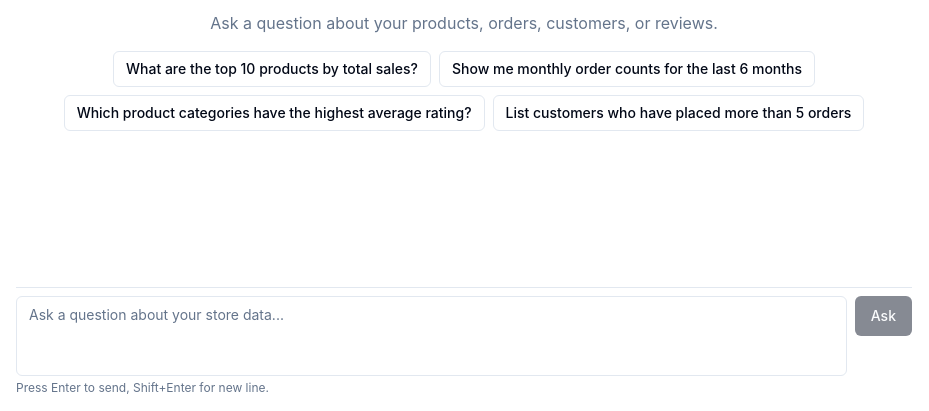
Test case: AiAnalyticsChat › enables the Ask button when input has text
Type "How many products?" into the text box with placeholder "Ask a question about your store data..." at (431, 336), box [16,296,847,376]
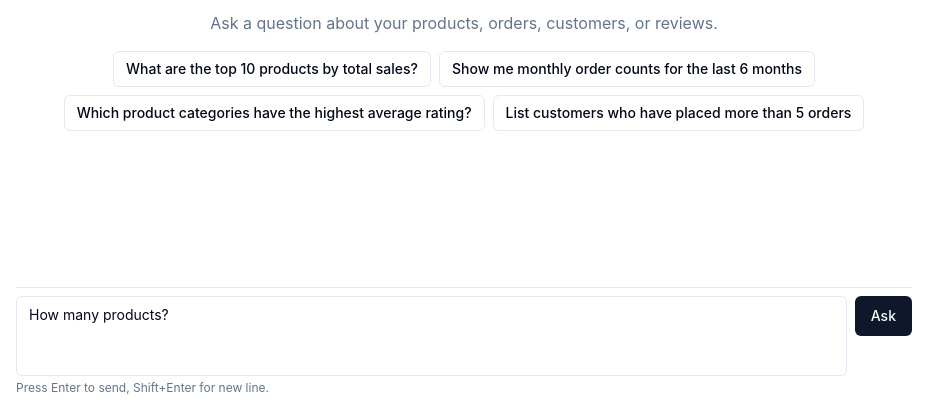
Now the button "Ask" is enabled, box [855,296,912,336]
